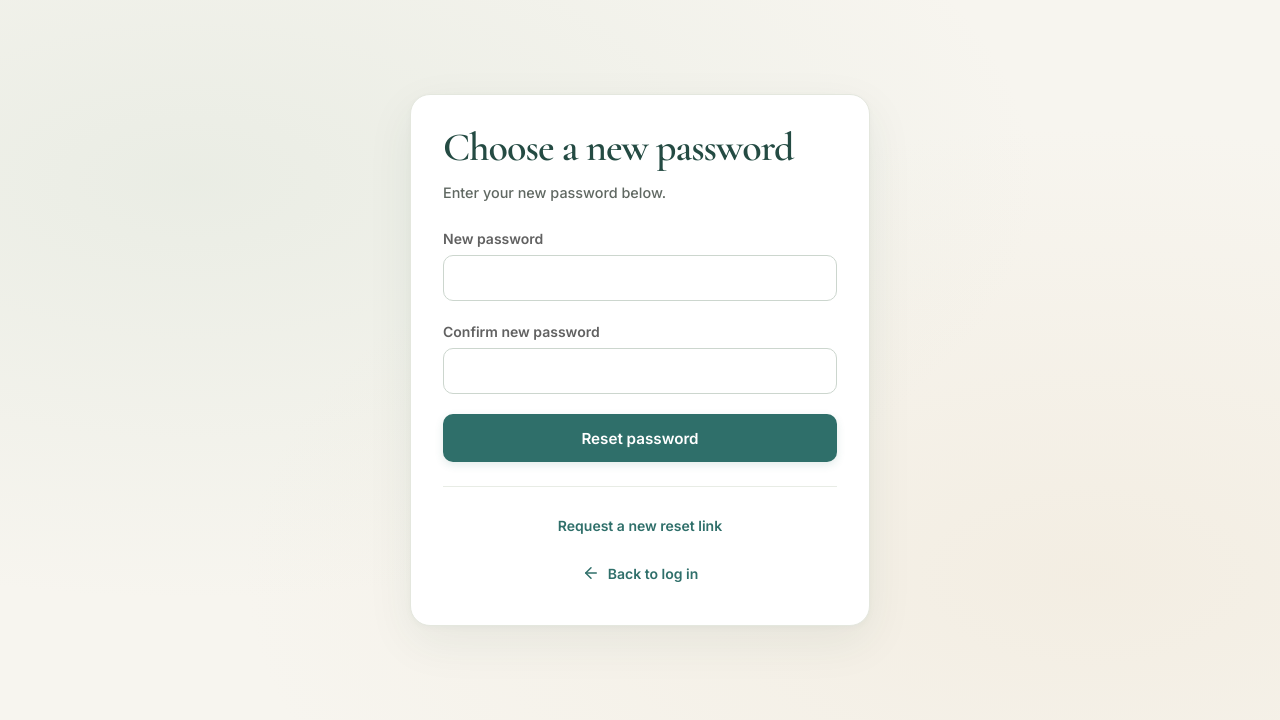
Scenario: rejects mismatched passwords, then submits the token and reports success
The width and height of the screenshot is (1280, 720).
In the password field labelled "New password": (640, 278) top-left (443, 255), bottom-right (837, 301), type "new-password"
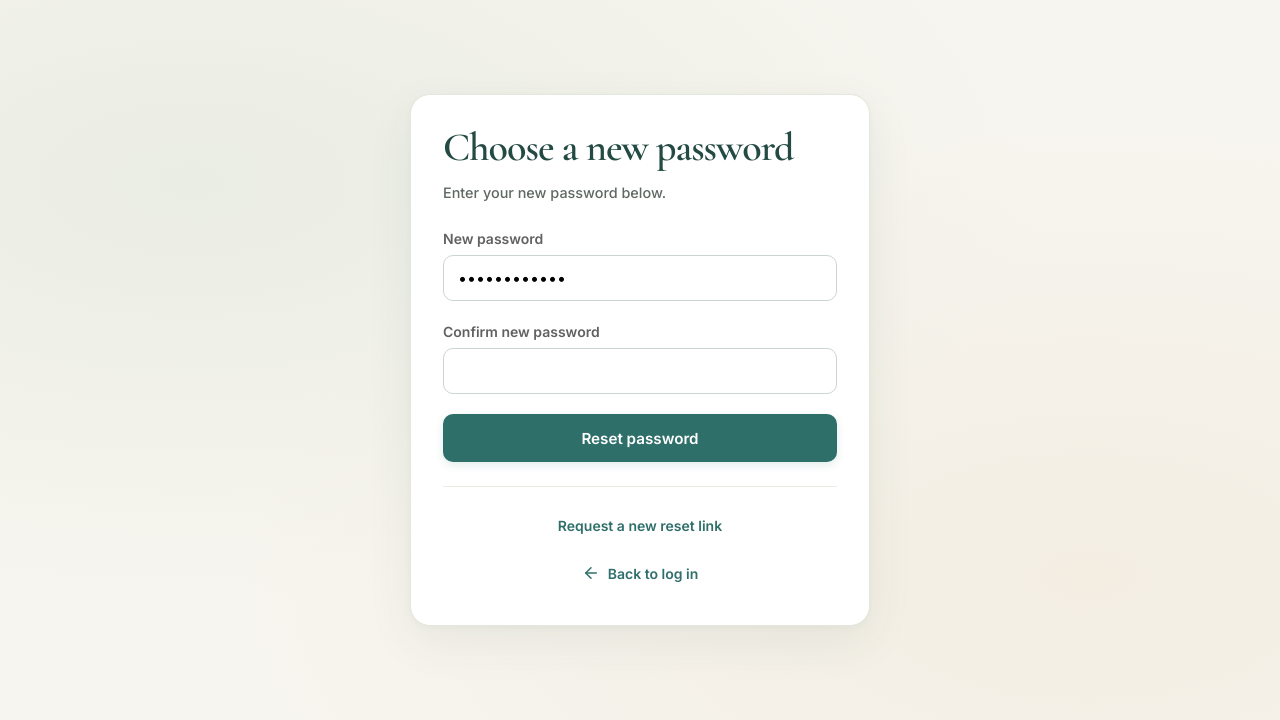
In the password field labelled "Confirm new password": (640, 371) top-left (443, 348), bottom-right (837, 394), type "different-password"
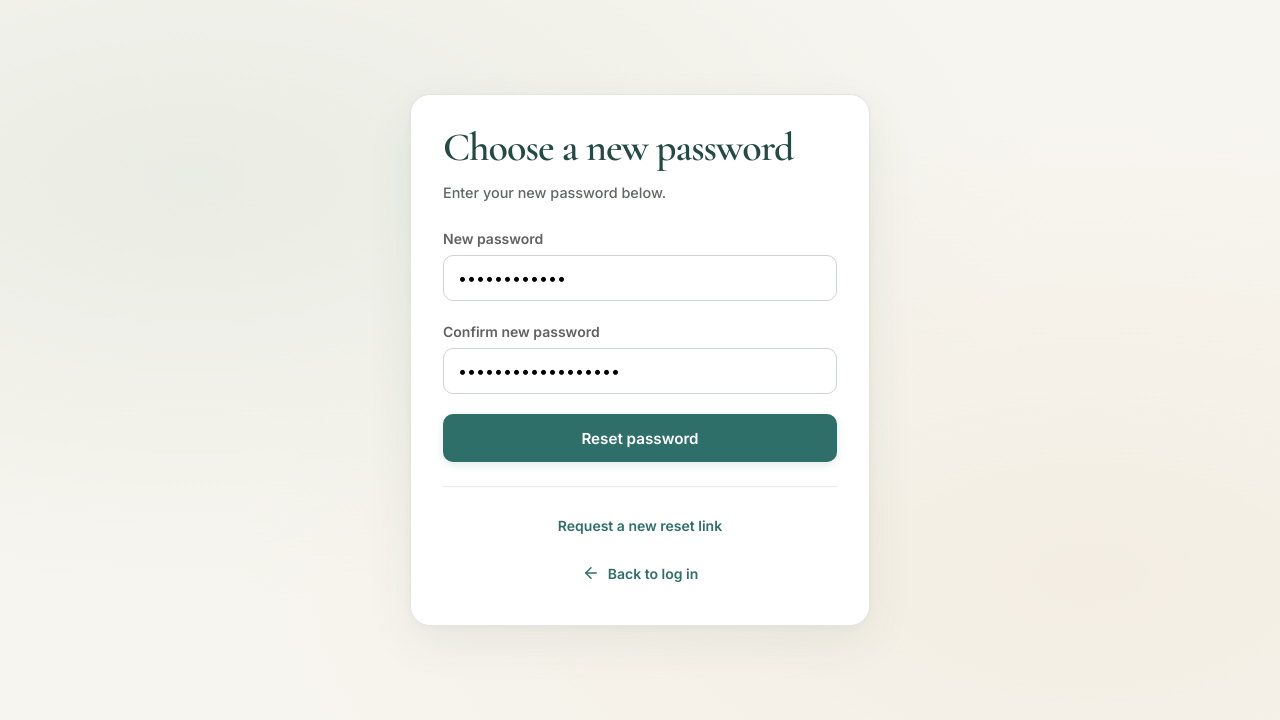
Click the button "Reset password": (640, 438) top-left (443, 414), bottom-right (837, 462)
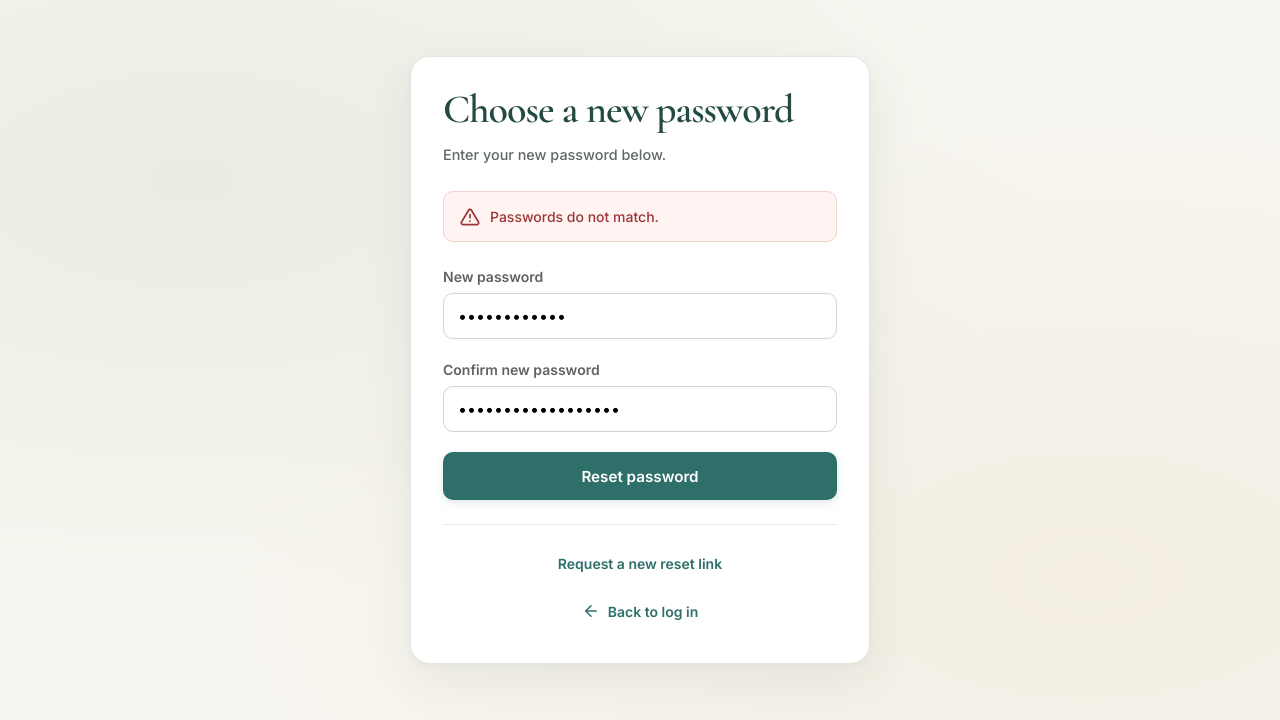
Result: the message shows "Passwords do not match" at top-left (490, 208), bottom-right (659, 224)
In the password field labelled "Confirm new password": (640, 409) top-left (443, 386), bottom-right (837, 432), type "new-password"
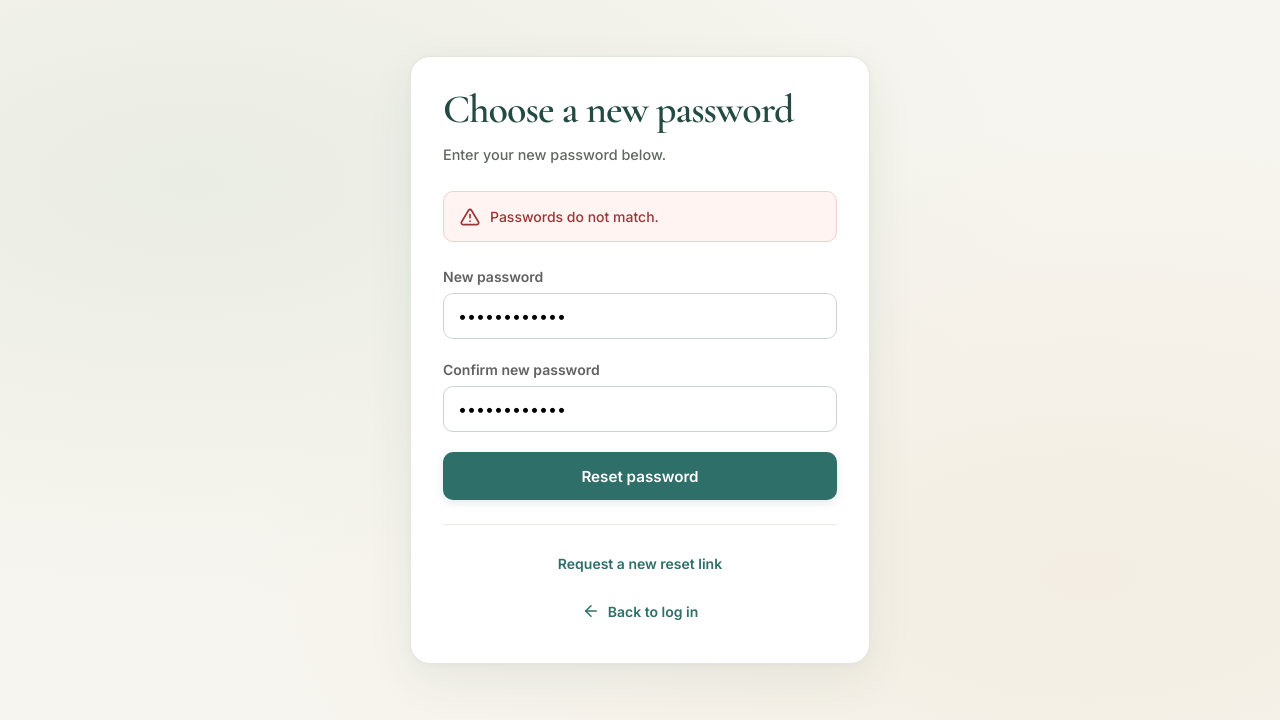
Click the button "Reset password": (640, 476) top-left (443, 452), bottom-right (837, 500)
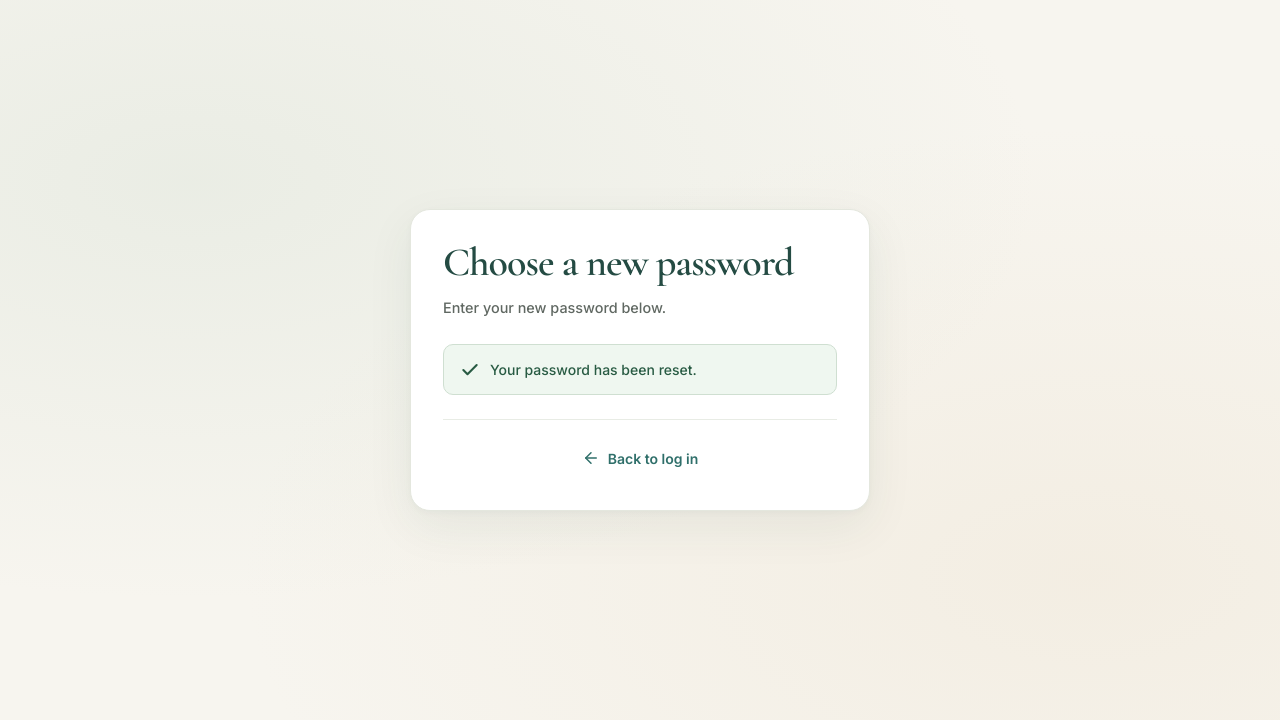
Result: the message shows "has been reset" at top-left (490, 360), bottom-right (697, 378)
